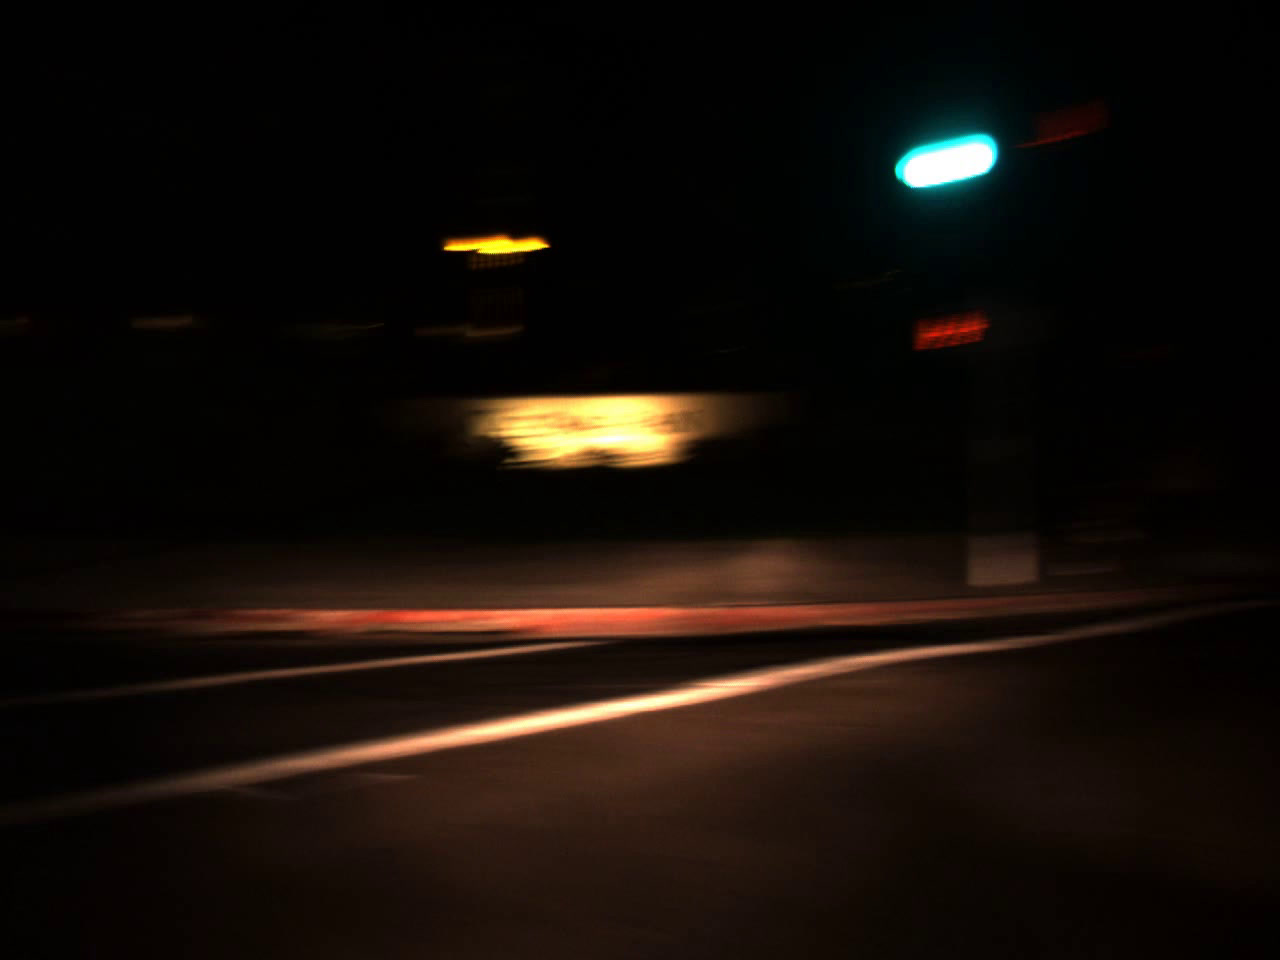go: (873, 86, 1018, 206)
